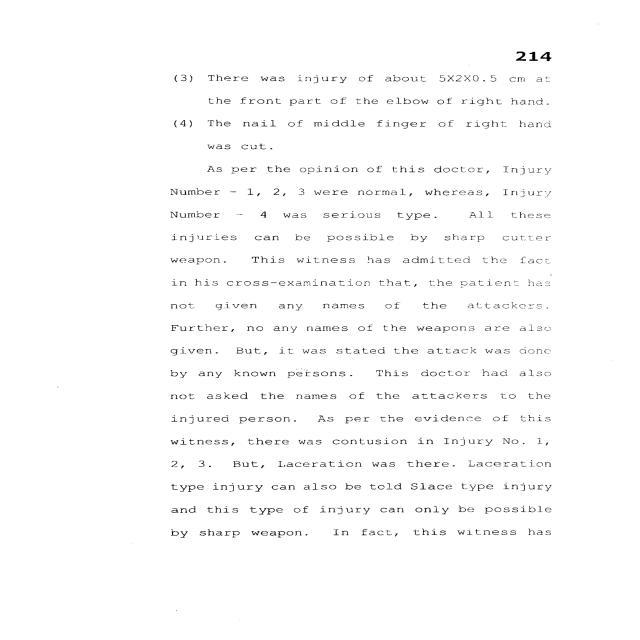page-number: (429, 0, 640, 72)
